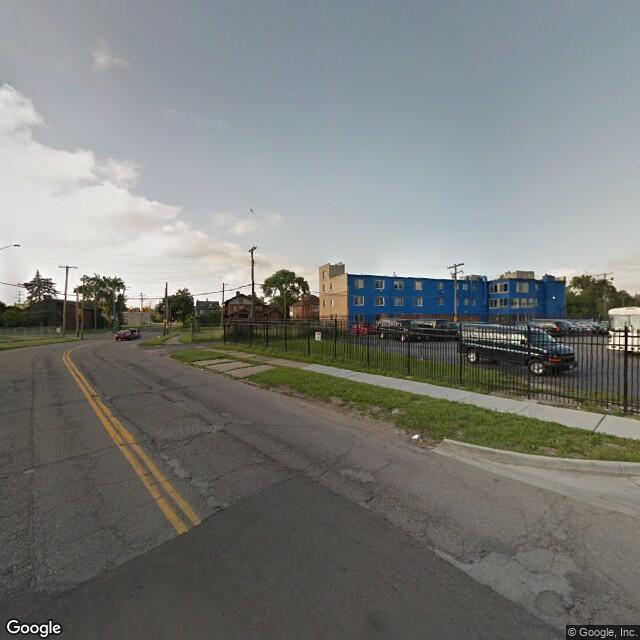litter: (408, 433, 422, 443)
